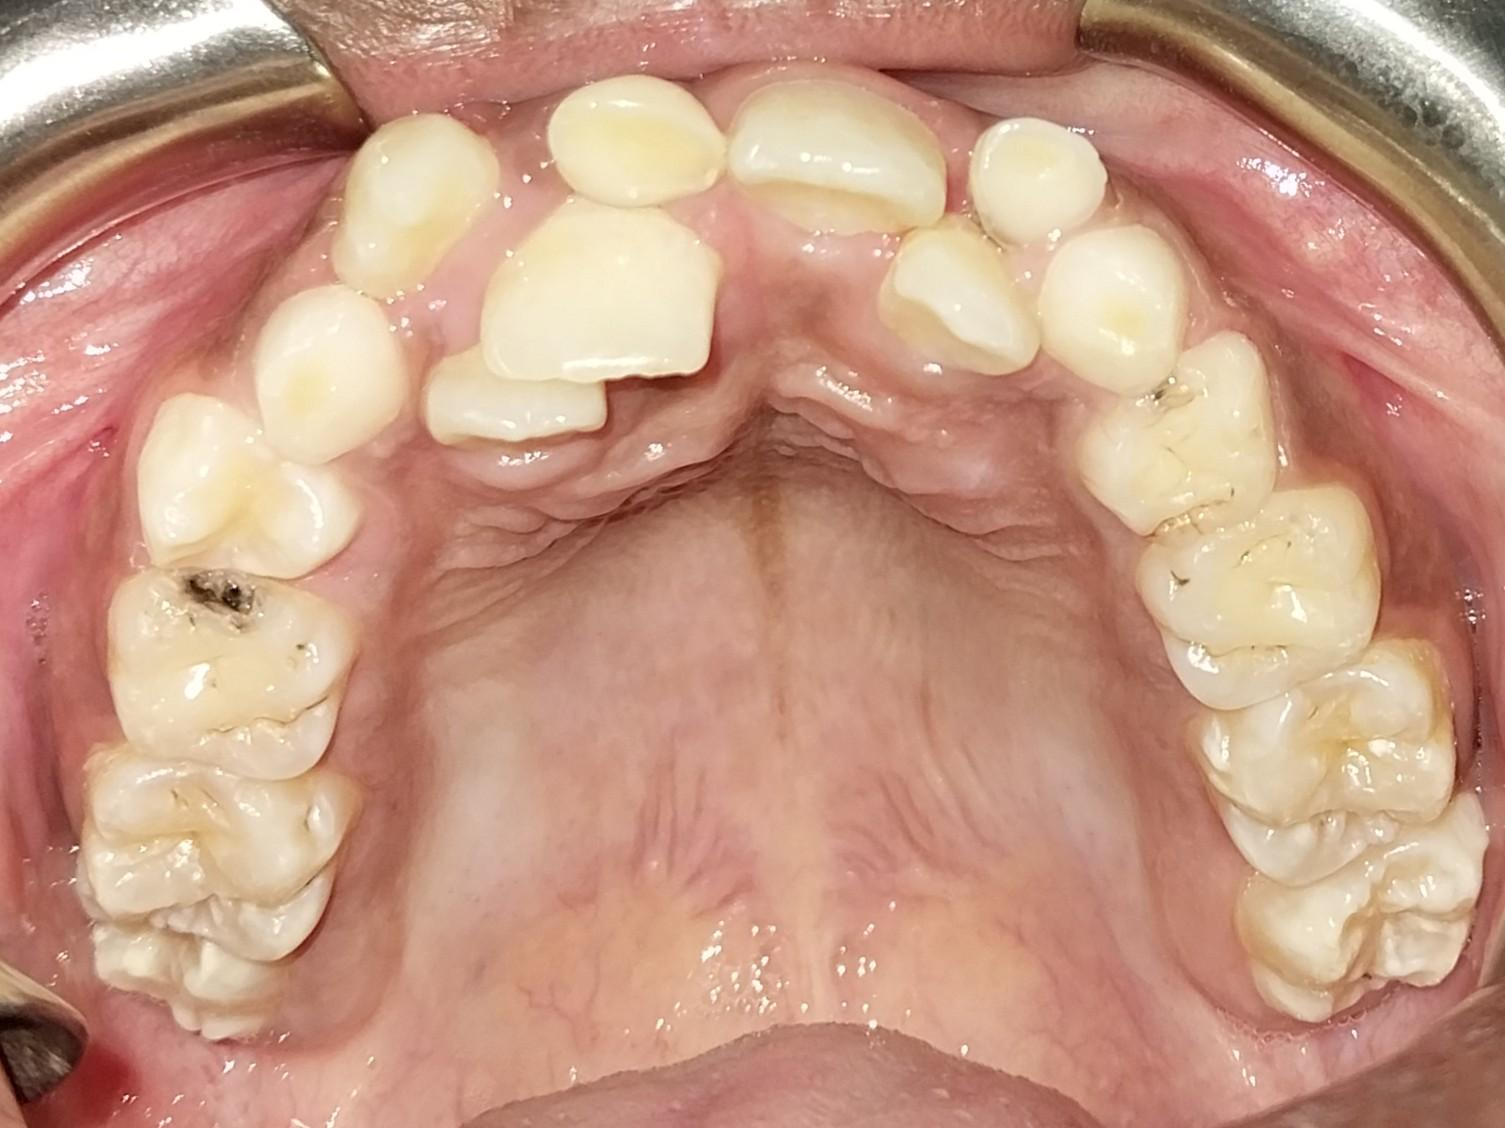d: (1142, 492, 1379, 712), (105, 570, 342, 787), (1087, 339, 1274, 534)
